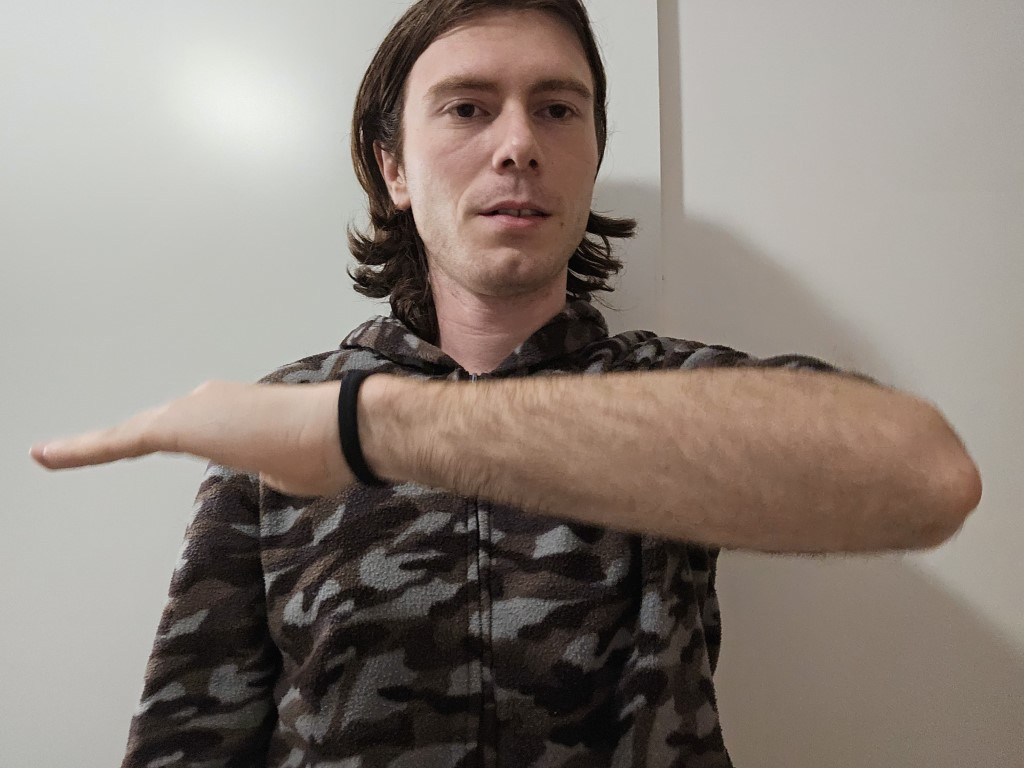space: (23, 373, 1002, 574)
